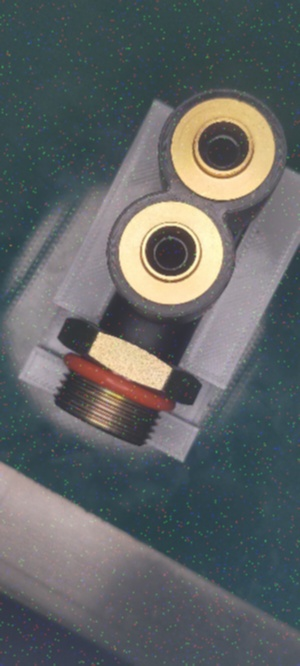joint line: (135, 319, 146, 345)
